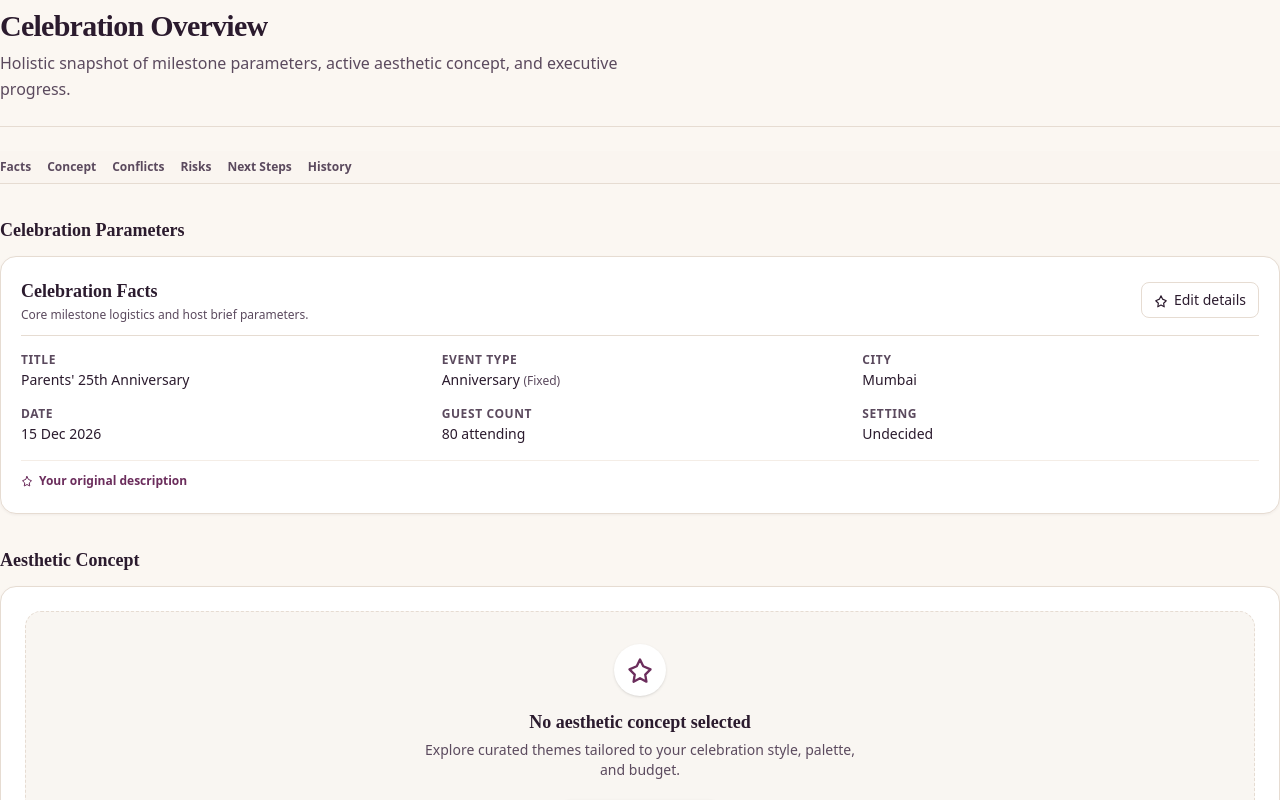
Scenario: Overview Page & Components › edits celebration facts: guest count change opens proposal flow
Click "Edit details"
Click the button "Edit details": (1200, 300) x1=1141 y1=282 x2=1259 y2=318
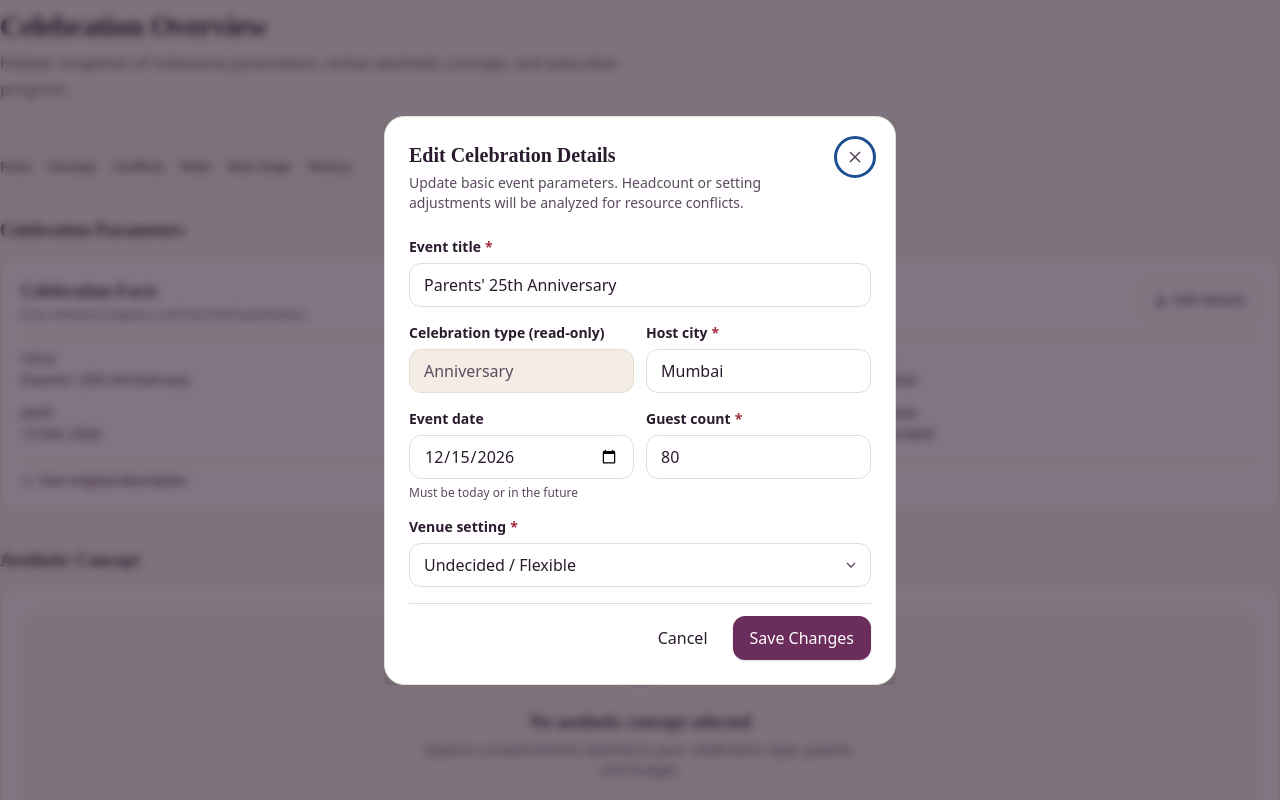
Change guest count to 120
Replace the text in the number field labelled "Guest count *" with "120": (758, 456) x1=646 y1=434 x2=871 y2=478
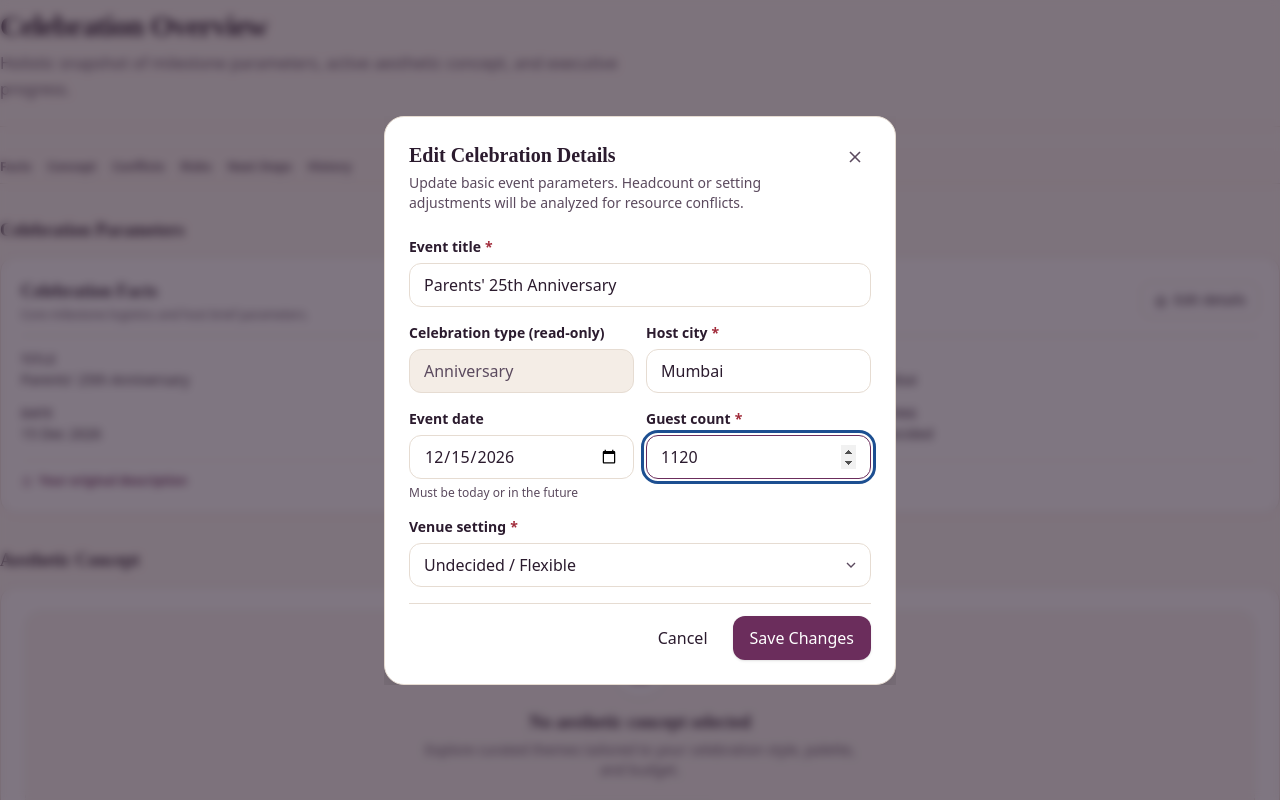
Click the button "Save Changes": (802, 638) x1=732 y1=616 x2=871 y2=660
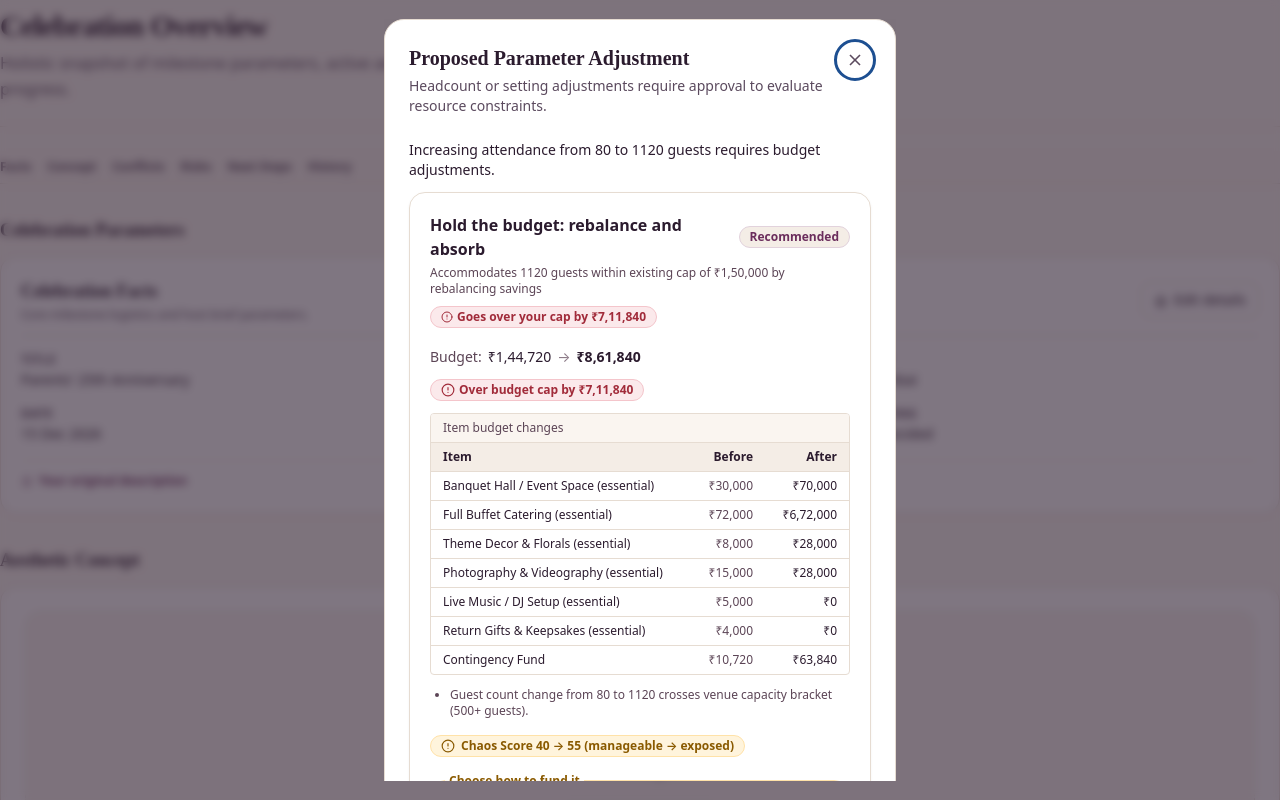
Result: the heading "Proposed Parameter Adjustment" is shown at x1=409 y1=47 x2=689 y2=69
